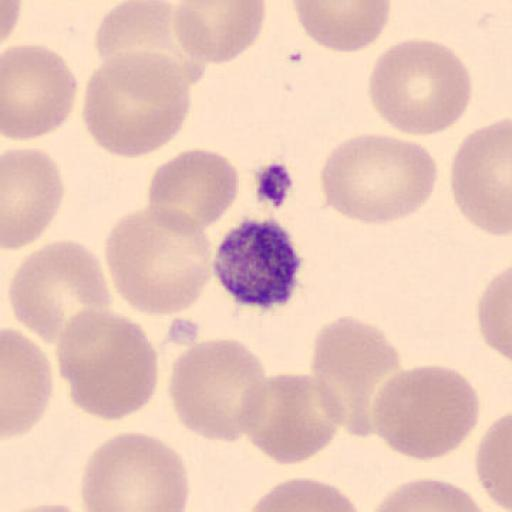Platelet: (209, 213, 306, 312)
RBC: (103, 202, 214, 316), (81, 50, 193, 159), (55, 308, 160, 422), (8, 238, 112, 350), (309, 314, 402, 439), (319, 130, 440, 226), (167, 336, 270, 444), (371, 363, 481, 462), (368, 38, 474, 138), (92, 0, 206, 92), (236, 372, 346, 466), (79, 431, 191, 511), (146, 147, 240, 232), (2, 42, 80, 141), (449, 116, 512, 238), (1, 146, 67, 252), (92, 0, 179, 80), (172, 0, 267, 65), (2, 326, 55, 440), (292, 0, 392, 54), (243, 475, 364, 512), (367, 476, 487, 512), (475, 409, 512, 512), (476, 263, 512, 363), (1, 499, 97, 512), (0, 0, 23, 52), (3, 502, 94, 512)
